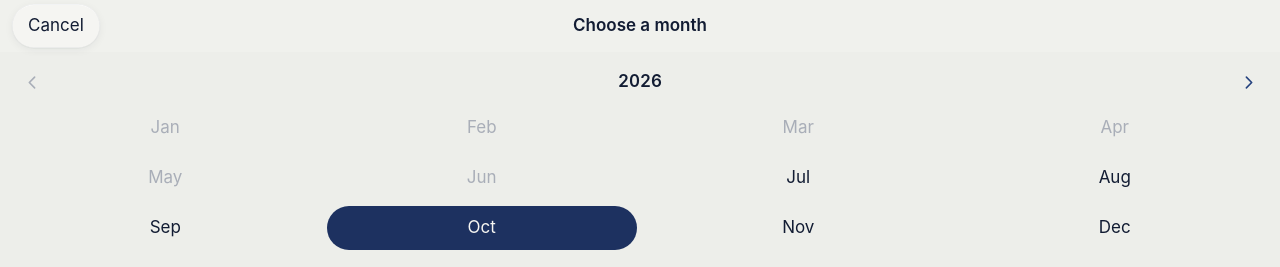
Test: MonthPickerSheet (DESIGN.md §9.3) › offers the periods from the first one with data to twelve months ahead
Expected: the heading "2026" is shown, [618,71,662,93]
Expected: the button with aria-label "June 2026" is disabled, [326,156,637,200]
Step 1. Click the button named "Next year, 2027" → (1248, 82), box [1226,60,1270,104]
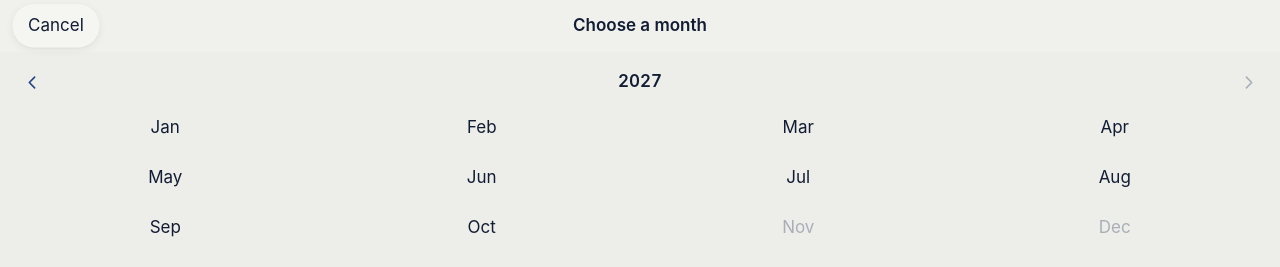
Expected: the heading "2027" is shown, [618,71,662,93]
Expected: the button with aria-label "November 2027" is disabled, [643,206,954,250]
Expected: the button named "Next year, 2028" is disabled, [1226,60,1270,104]
